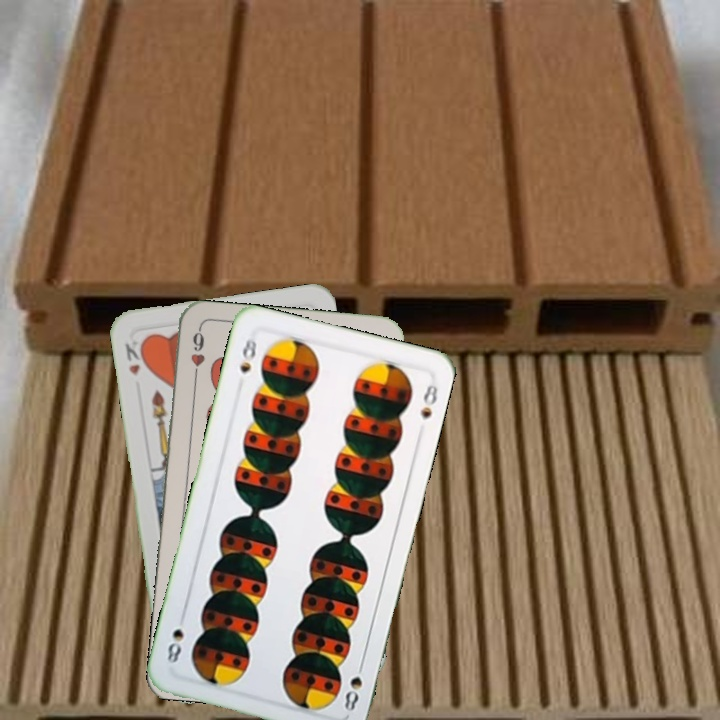H9: (187, 325, 208, 384)
HK: (121, 336, 149, 378)
S8: (340, 656, 368, 714), (235, 329, 260, 376)
